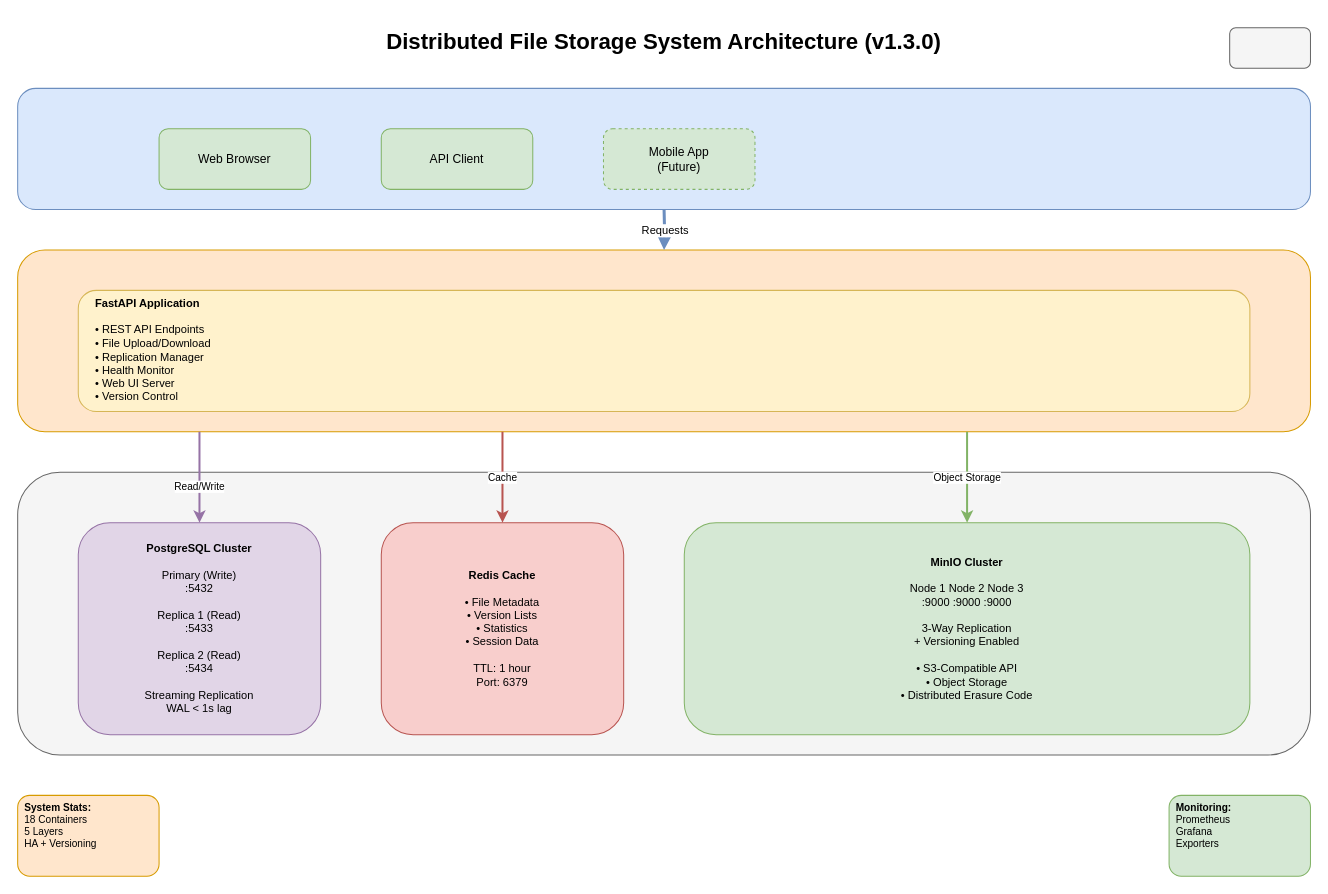
The diagram is 1328 pixels wide and 894 high, and some of its shapes have lost their labels. Each missing label, with the box of its shape:
APPLICATION LAYER: (17, 249, 1310, 432)
CLIENT LAYER: (17, 87, 1310, 210)
DATA LAYER: (17, 471, 1310, 755)
v1.3.0: (1229, 27, 1310, 68)
